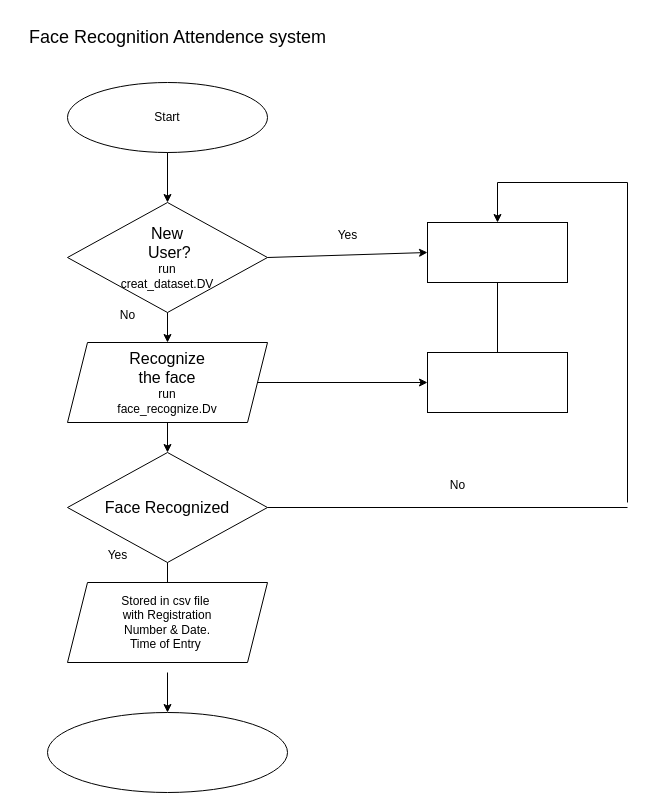
Some shapes in this 646 by 810 pixel diagram are drawn without their labels. The box of each missing label's shape, as (x1, y1, x2, y2) in pixels:
End: (46, 712, 288, 792)
Give your photograph: (426, 222, 568, 282)
Store the face data in folder on your name: (426, 352, 568, 412)
